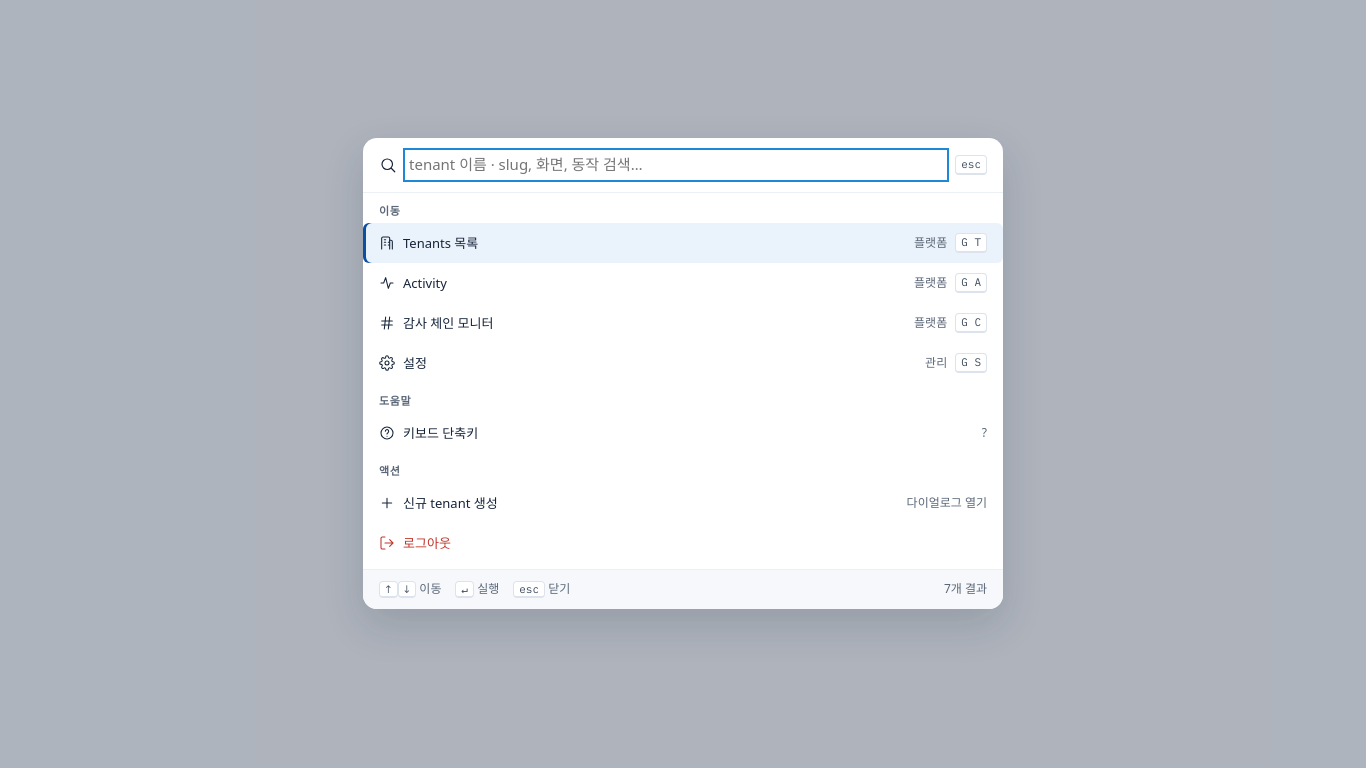
Test case: CommandPalette V2 › 이동/액션 그룹과 단축키 표시, 결과 없음 상태
Expected: the text "액션" is shown, [379,463,401,478]
Expected: the text "G T" is shown, [955,233,987,253]
Type "zzzzzz" into the dropdown named "검색" at (676, 165), box [407,152,945,178]
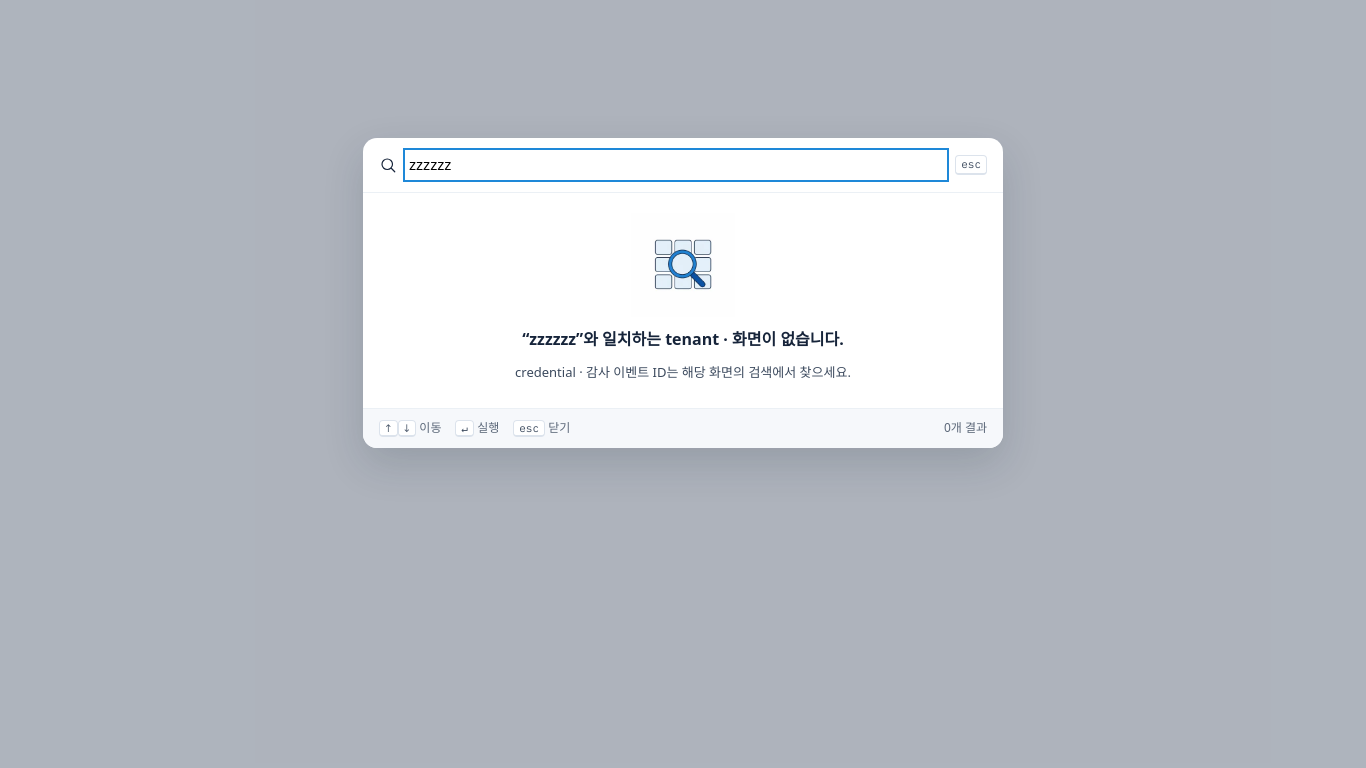
Now the text "“zzzzzz”와 일치하는 tenant · 화면이 없습니다." is shown, box [522,327,844,352]
